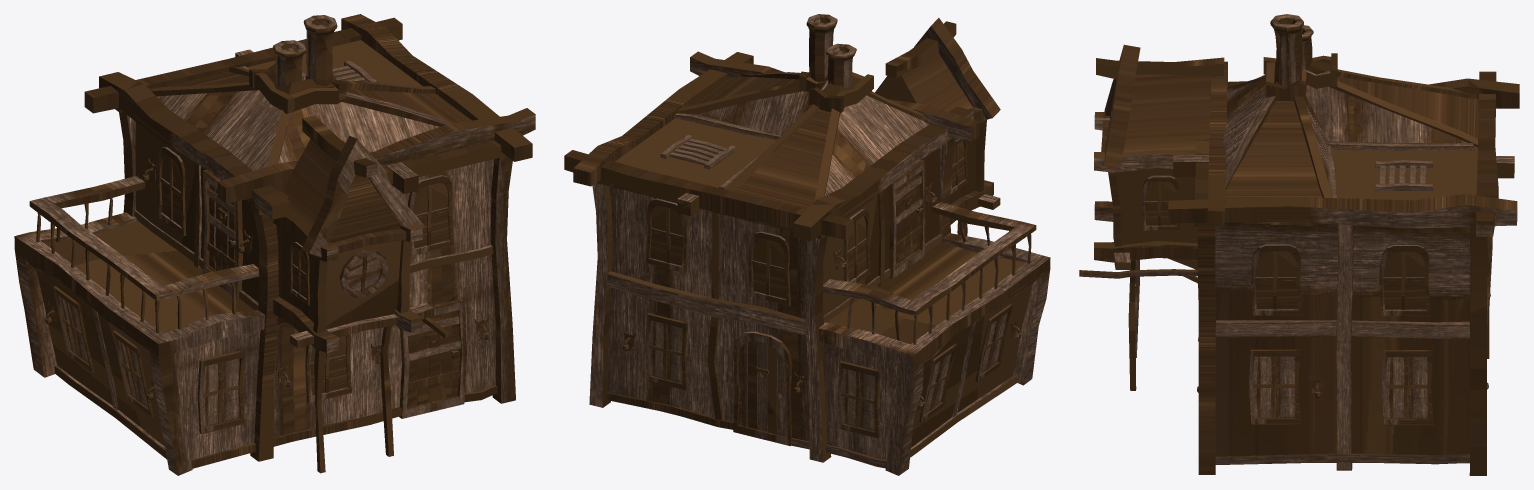
The model's file is House-4.fbx.
3 views of the same model, side by side, from view 1: azimuth 30°, elevation 25°; view 2: azimuth 150°, elevation 25°; view 3: azimuth 270°, elevation 25° (orthographic). The views are drawn at different scales.
Parts seen in each view (by area): view 1: LOW.076; view 2: LOW.076; view 3: LOW.076.
Part boxes in pixels (left/top/right/bottom): LOW.076: left=14, top=14, right=535, bottom=475; LOW.076: left=564, top=14, right=1050, bottom=475; LOW.076: left=1079, top=14, right=1519, bottom=475.
Size of the model in its own units: 328 by 314 by 329.
